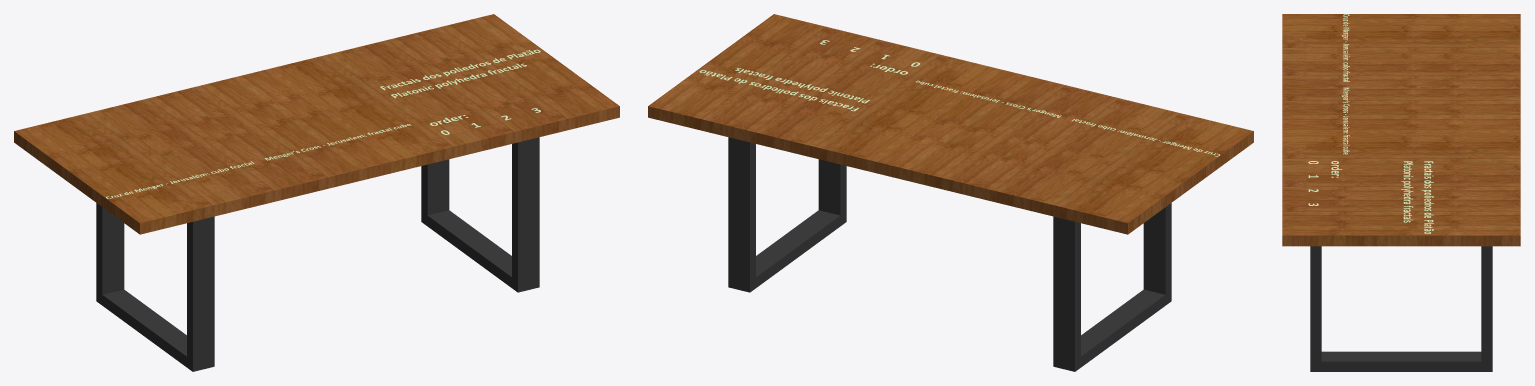
The model's file is fractal_platao4.glb.
3 views of the same model, side by side, from view 1: azimuth 30°, elevation 25°; view 2: azimuth 150°, elevation 25°; view 3: azimuth 270°, elevation 25° (orthographic). The views are drawn at different scales.
Parts seen in each view (by area): view 1: object 1, Composant#1 (×2), Fractais dos pol; view 2: object 1, Composant#1 (×2), Fractais dos pol; view 3: object 1, Composant#1, Fractais dos pol, Cruz de Menger -#1, Menger's Cross -.
Part boxes in pixels (x1,y1,x2,y2): object 1: (14,14,619,234); Composant#1 (×2): (96,137,539,371); Fractais dos pol: (380,49,540,98); object 1: (648,14,1253,234); Composant#1 (×2): (728,137,1171,371); Fractais dos pol: (699,68,869,111); object 1: (1282,14,1520,246); Composant#1: (1310,246,1492,371); Fractais dos pol: (1401,161,1433,233); Cruz de Menger -#1: (1342,14,1349,81); Menger's Cross -: (1342,87,1349,154).
Size of the model in its own units: 2.2 by 0.7711 by 1.
Materials: 3 (1 with a texture image).
